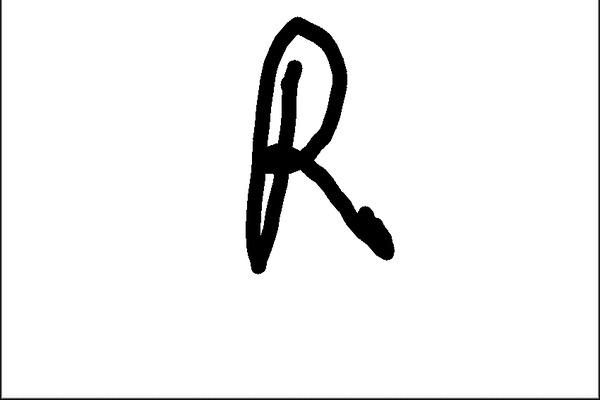R: (237, 6, 408, 284)
